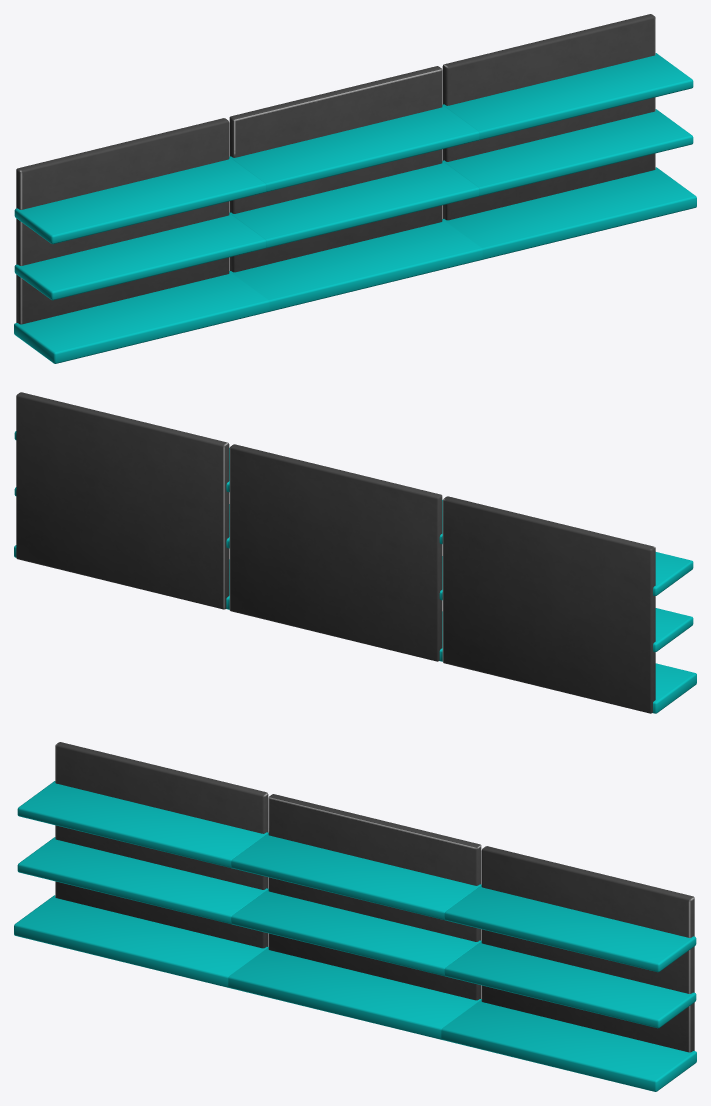
Rendered from RepartoEmpty.fbx.
3 views of the same model, one above another, from view 1: azimuth 30°, elevation 25°; view 2: azimuth 150°, elevation 25°; view 3: azimuth 330°, elevation 25° (orthographic).
Visible parts, largest first — view 1: RepartoEmpty; view 2: RepartoEmpty; view 3: RepartoEmpty.
Part boxes in pixels (left/top/right/bottom): RepartoEmpty: left=14, top=14, right=696, bottom=363; RepartoEmpty: left=14, top=392, right=696, bottom=713; RepartoEmpty: left=14, top=742, right=696, bottom=1091.
Size of the model in its own units: 1162 by 284 by 134.
